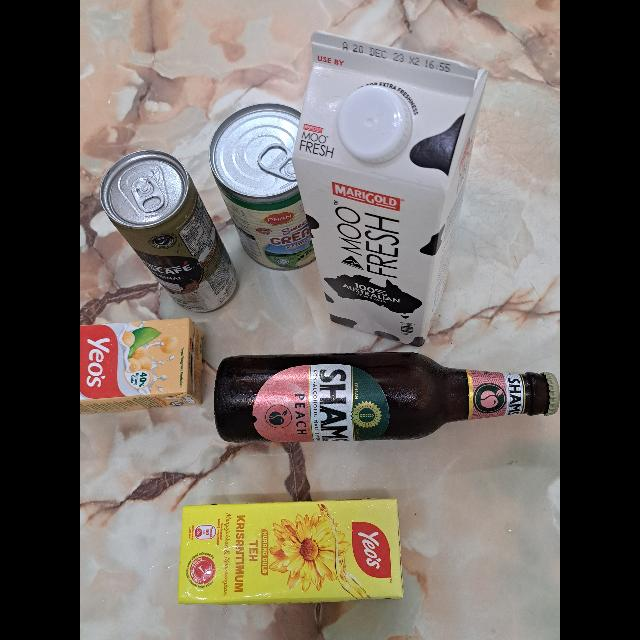aba de lata: (257, 142, 297, 182), (132, 176, 164, 212)
caixinha: (290, 30, 490, 348), (178, 498, 404, 606), (80, 318, 206, 414)
garrafa de vidro: (212, 351, 560, 443)
lata: (98, 150, 240, 314), (208, 103, 316, 270)
tampa plástica: (337, 85, 413, 165)
